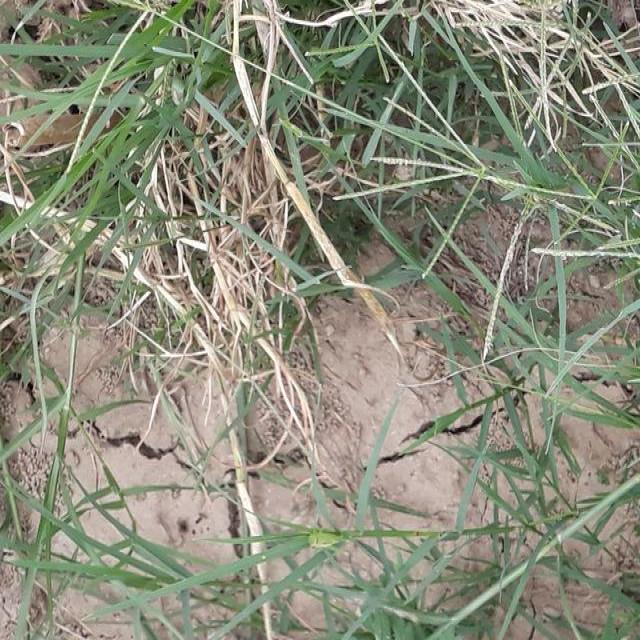weed: (0, 0, 623, 260), (35, 498, 640, 640)
